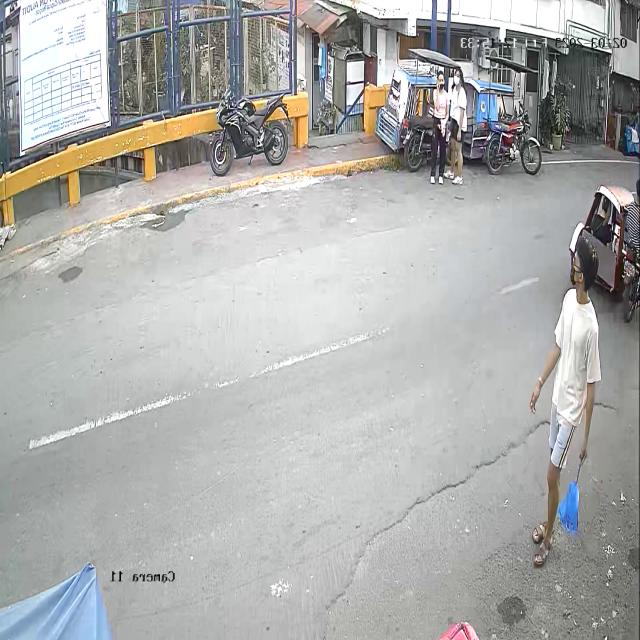garbage_dumping: (556, 456, 585, 538)
